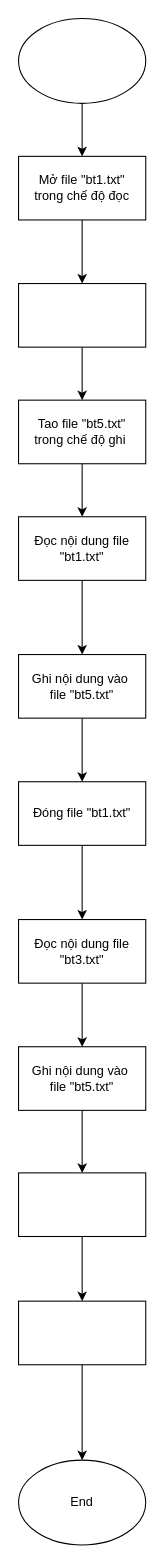
This 164x1563 diagram has some shape labels left out. The shapes that lost their labels are listed below. From the top down, each one's box as (x1, y1, x2, y2) in pixels, then its label:
(17, 17, 146, 103): Start
(17, 282, 146, 347): Mở file "bt3.txt" trong chế độ đọc
(17, 1172, 146, 1236): Đóng file "bt3.txt"
(17, 1300, 146, 1365): Đóng file "bt5.txt"
